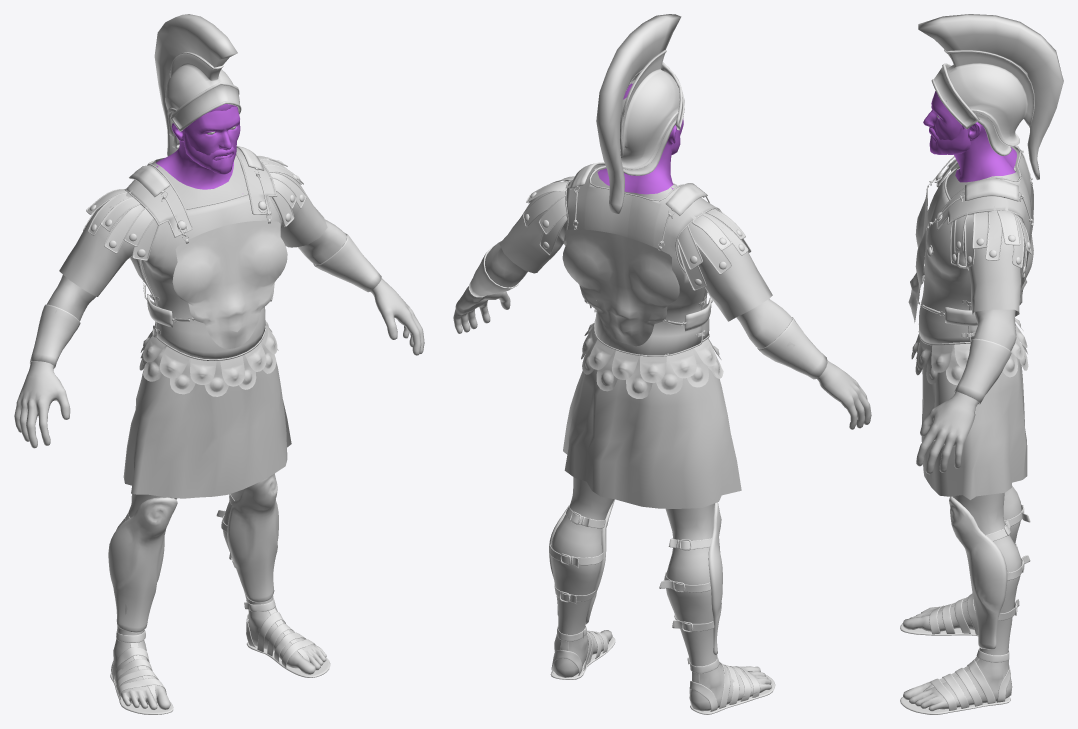
The model's file is Lowpoly_Hannibal.fbx.
3 views of the same model, side by side, from view 1: azimuth 30°, elevation 25°; view 2: azimuth 150°, elevation 25°; view 3: azimuth 270°, elevation 25° (orthographic).
Parts seen in each view (by area): view 1: Body_low..001, Armor_low..001, Head_low..001; view 2: Body_low..001, Armor_low..001, Head_low..001; view 3: Body_low..001, Armor_low..001, Head_low..001.
Part boxes in pixels (box(x1,y1,x2,y2)): Body_low..001: box(14, 150, 424, 709); Armor_low..001: box(30, 14, 381, 714); Head_low..001: box(156, 104, 240, 189); Body_low..001: box(453, 166, 871, 711); Armor_low..001: box(468, 14, 827, 714); Head_low..001: box(597, 83, 683, 194); Body_low..001: box(903, 145, 1031, 711); Armor_low..001: box(900, 14, 1063, 714); Head_low..001: box(923, 91, 1016, 182).
Size of the model in its own units: 786 by 1223 by 280.
